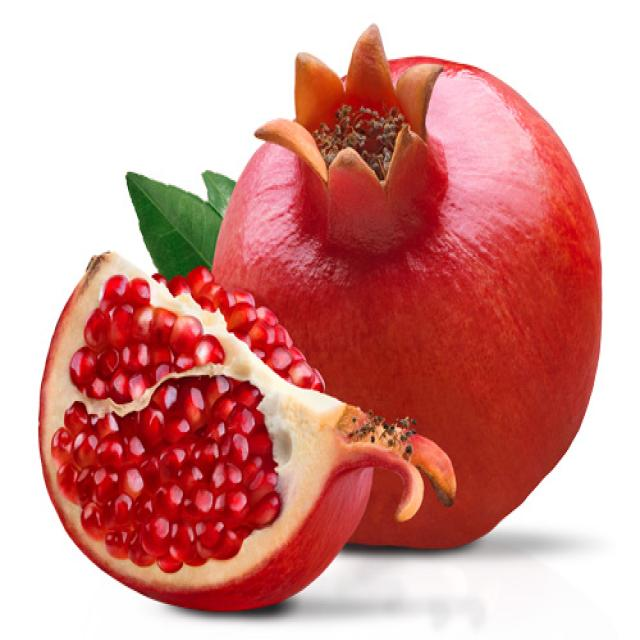apple: (218, 23, 606, 555)
